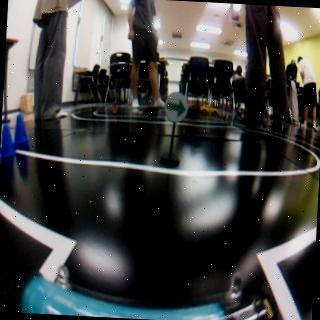right: (164, 91, 188, 122)
